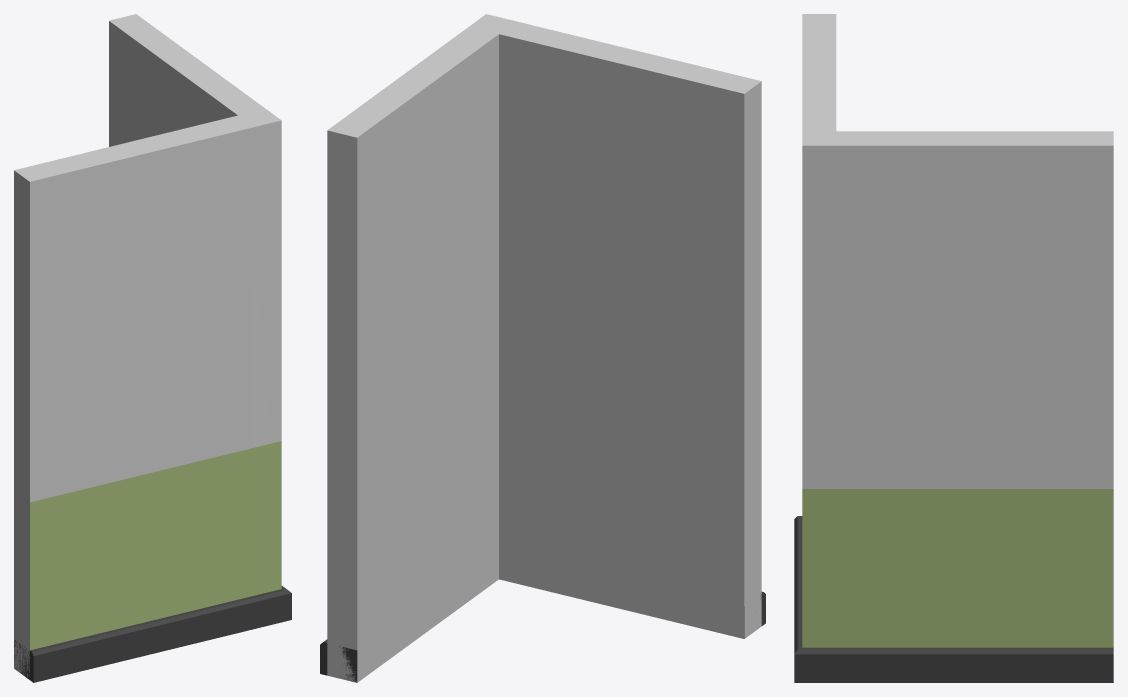
Rendered from Kinder3_Corner.fbx.
The picture shows the model from 3 angles, left to right: view 1: azimuth 30°, elevation 25°; view 2: azimuth 150°, elevation 25°; view 3: azimuth 270°, elevation 25°; orthographic projection. The views are drawn at different scales.
Visible parts, largest first — view 1: coner, coner.001; view 2: coner, coner.001; view 3: coner, coner.001.
Boxes of the visible parts, bbox=[...] form: coner: bbox=[14, 14, 281, 677]; coner.001: bbox=[14, 586, 291, 682]; coner: bbox=[327, 14, 761, 682]; coner.001: bbox=[320, 591, 765, 682]; coner: bbox=[802, 14, 1113, 647]; coner.001: bbox=[794, 516, 1113, 682].
Size of the model in its own units: 136 by 250 by 136.
